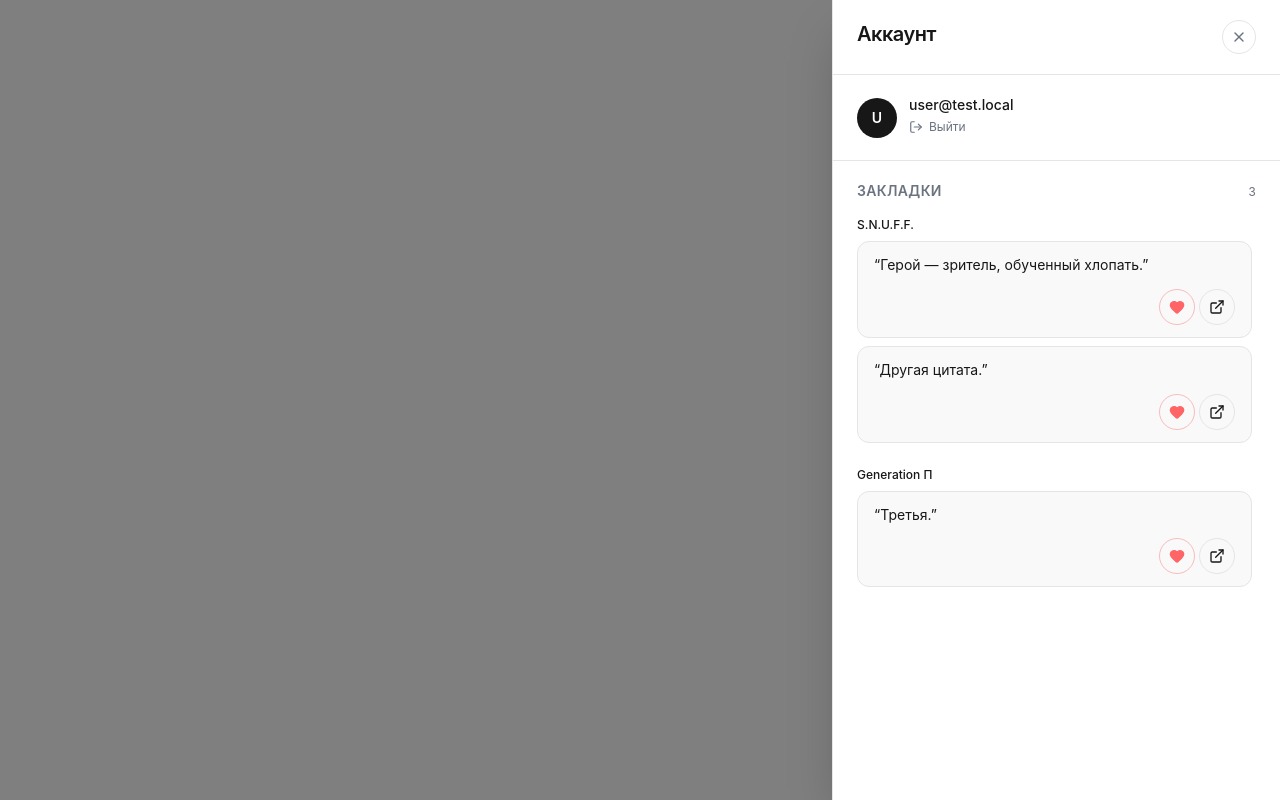
Test: AccountPanel › removes a bookmark and updates the count
The width and height of the screenshot is (1280, 800).
Expected: the text "“Герой — зритель, обученный хлопать.”" is shown, x1=874 y1=256 x2=1148 y2=273
Click the button named "убрать из закладок" below "Герой — зритель, обученный хлопать." at (1177, 307), box x1=1159 y1=289 x2=1195 y2=325
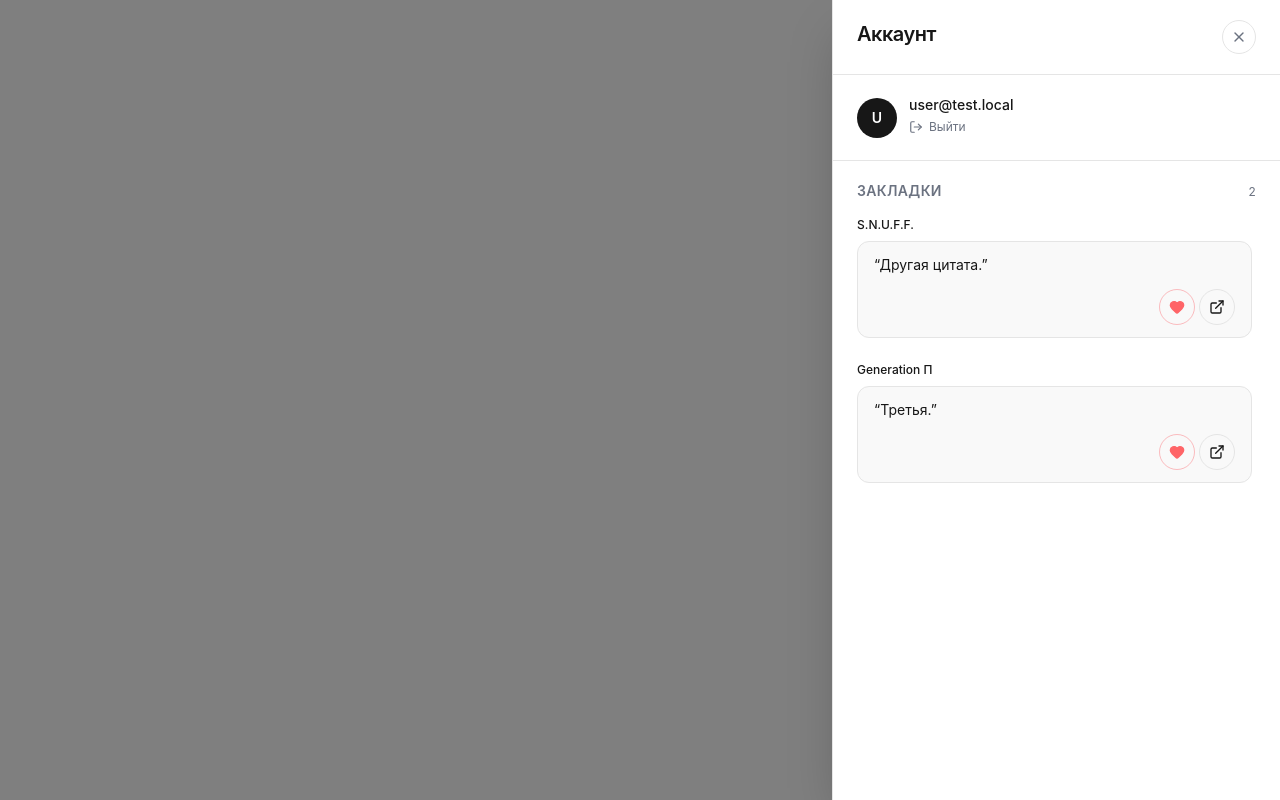
Now the text "Герой — зритель, обученный хлопать" is gone
